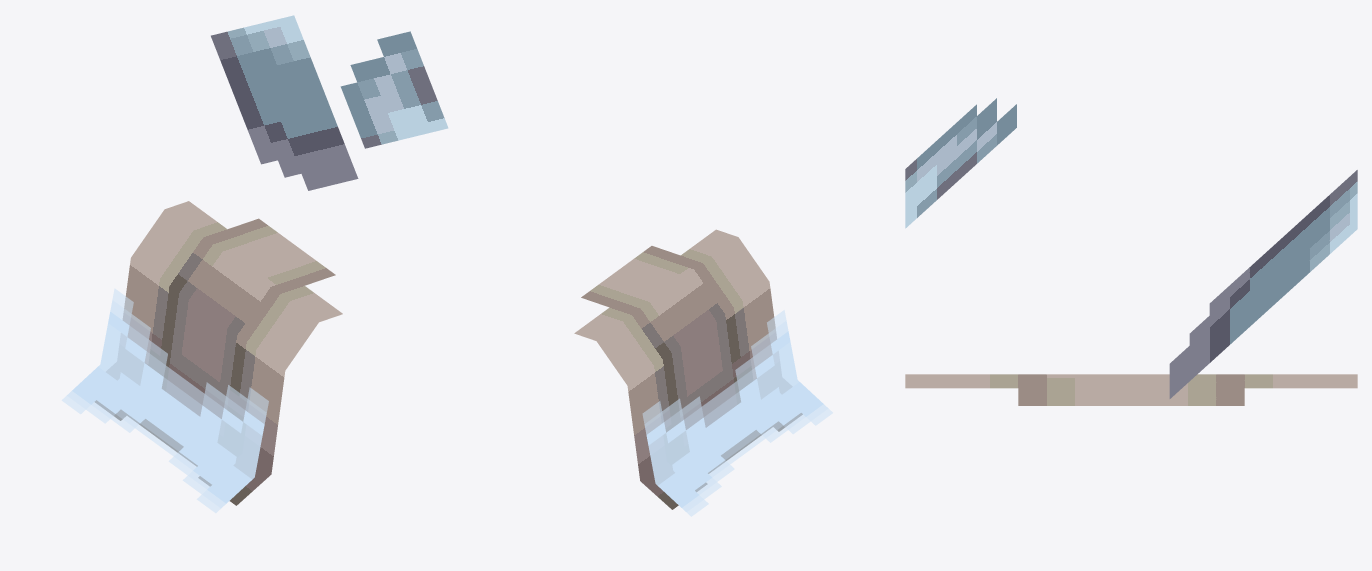
3 renders of one model, left to right at view 1: azimuth 30°, elevation 25°; view 2: azimuth 150°, elevation 25°; view 3: azimuth 270°, elevation 25°, orthographic. The views are drawn at different scales.
Bounding box in the file's own units: 1.05 × 1.58 × 1.
Materials: 3 (3 with a texture image).
